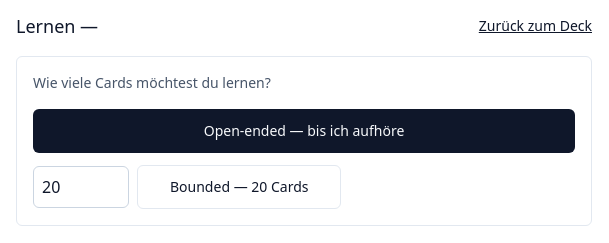
Test: ReviewSessionPage — full session smoke test › shows the empty-state when the deck has no cards
The width and height of the screenshot is (609, 243).
Click the button "Open-ended — bis ich aufhöre" at (304, 131), box [33,109,575,153]
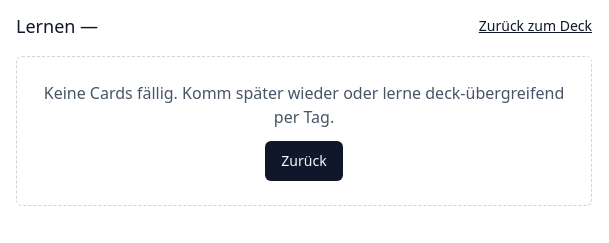
Expected: the text "Keine Cards fällig" is shown, [44,82,564,128]
